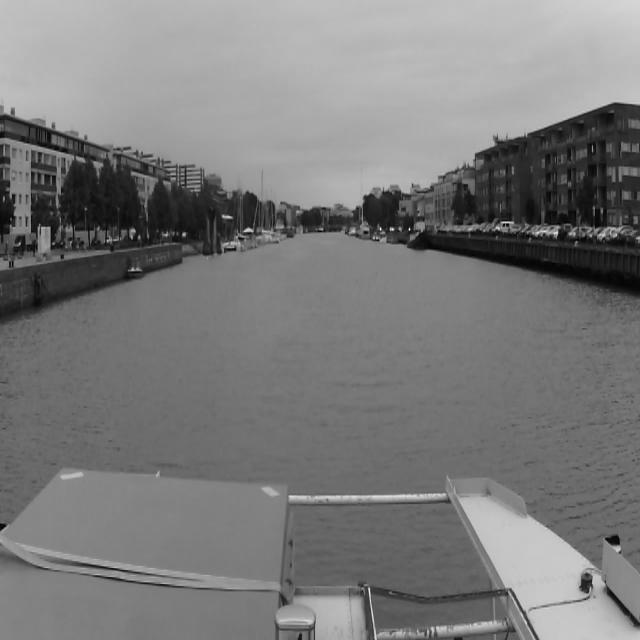ship: (407, 208, 427, 249), (127, 263, 143, 279)
